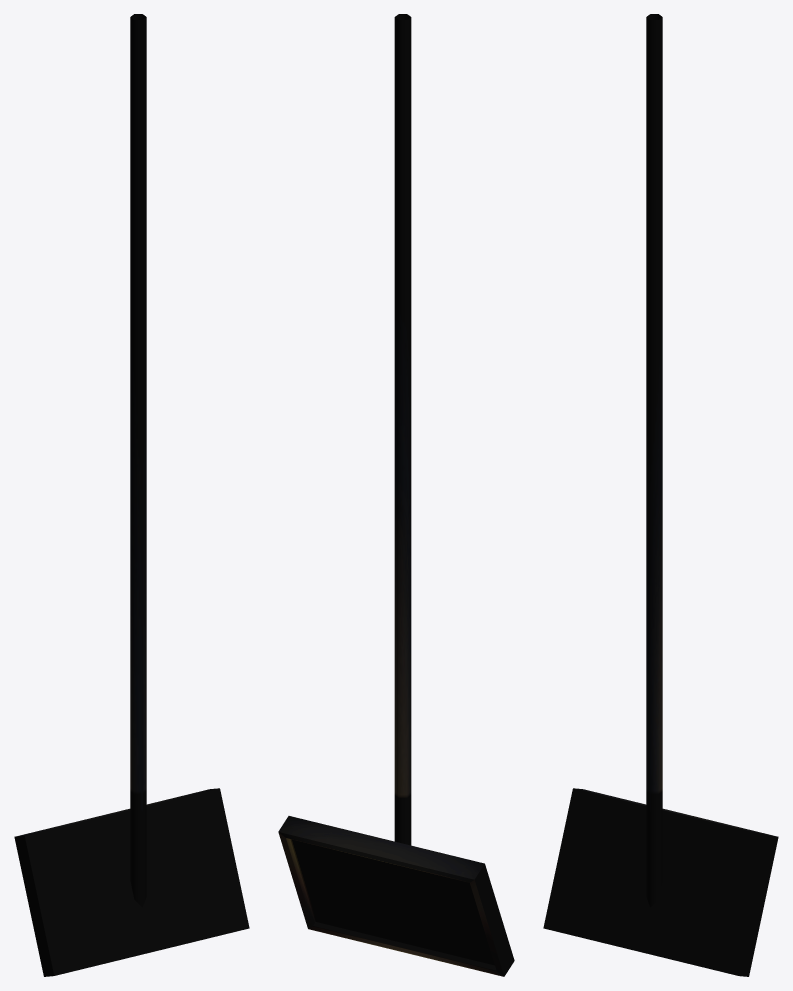
3 views of the same model, side by side, from view 1: azimuth 30°, elevation 25°; view 2: azimuth 150°, elevation 25°; view 3: azimuth 330°, elevation 25° (orthographic).
Visible parts, largest first — view 1: tv; view 2: tv; view 3: tv.
Part boxes in pixels (x1,y1,x2,y2): tv: [14, 14, 249, 976]; tv: [278, 14, 514, 976]; tv: [543, 14, 778, 976].
Bounding box in the file's own units: 0.55 × 2.51 × 0.1949.
1 material, 1 textured.
